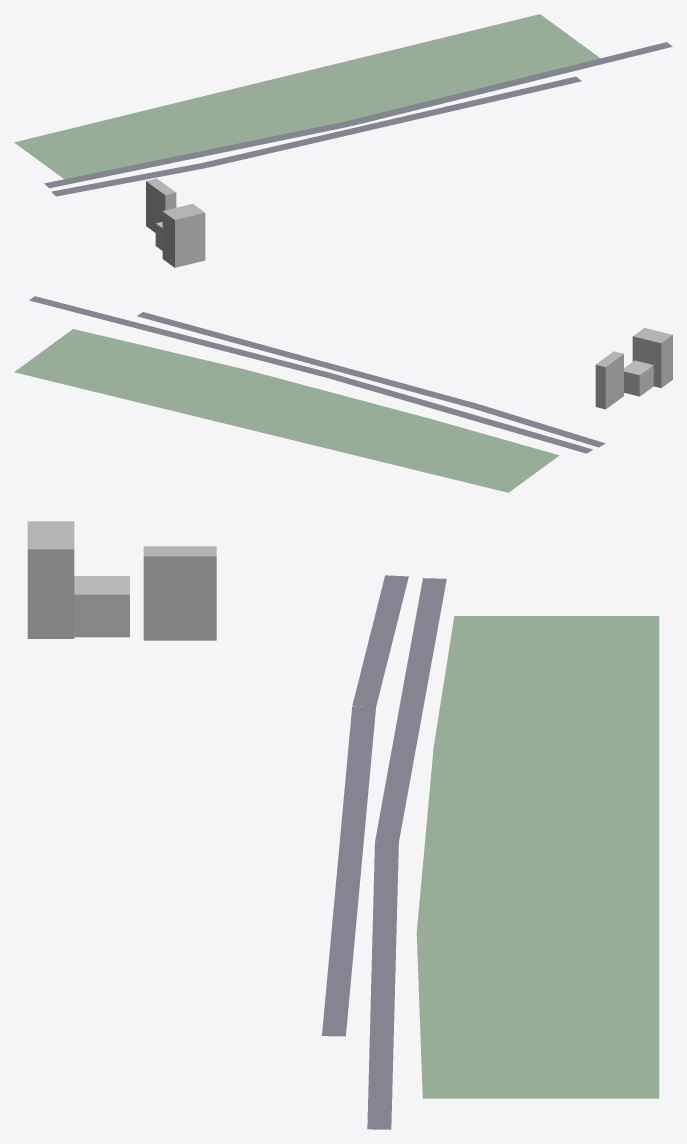
File: 125_81_mid.glb
The picture shows the model from 3 angles, top to bottom: view 1: azimuth 30°, elevation 25°; view 2: azimuth 150°, elevation 25°; view 3: azimuth 270°, elevation 25°; orthographic projection. The views are drawn at different scales.
Size of the model in its own units: 582 by 43.4 by 276.
